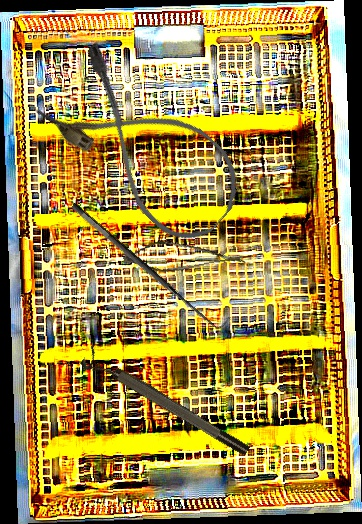Cannula: (31, 37, 258, 256)
Fixation Ring: (79, 344, 252, 466)
Hook Surgical: (68, 191, 233, 338)
Micro Scissor: (121, 225, 249, 286)
